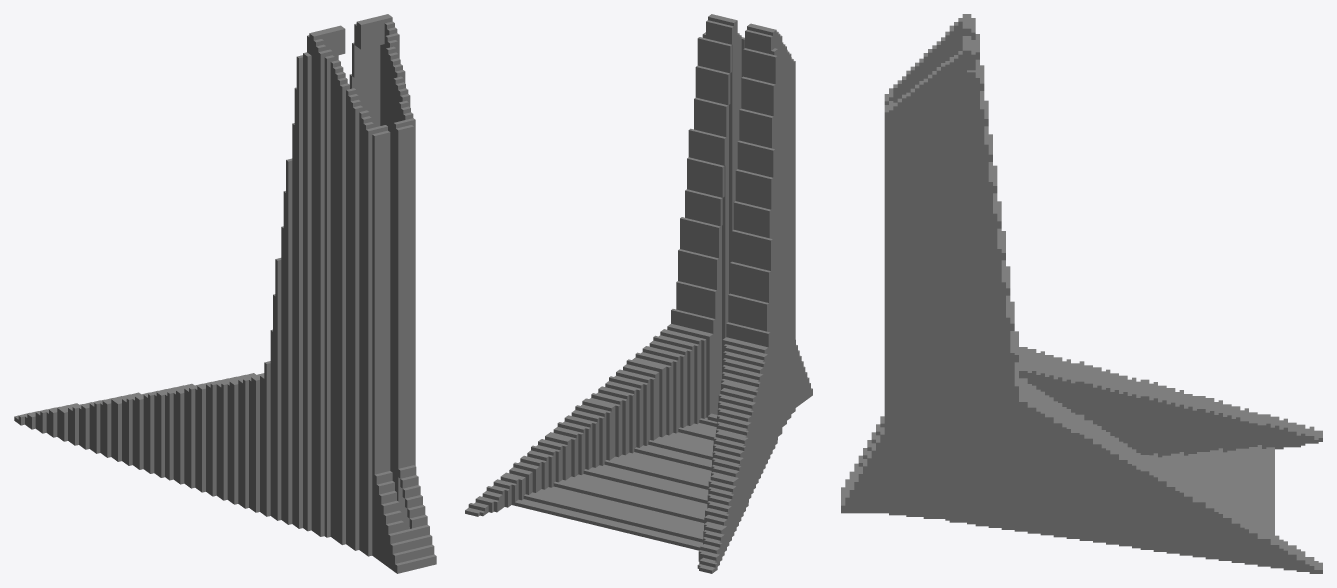
File: Light House (Full Size).obj
The picture shows the model from 3 angles, left to right: view 1: azimuth 30°, elevation 25°; view 2: azimuth 150°, elevation 25°; view 3: azimuth 270°, elevation 25°; orthographic projection. The views are drawn at different scales.
Visible parts, largest first — view 1: Light House (Full Size); view 2: Light House (Full Size); view 3: Light House (Full Size).
Part boxes in pixels (x1,y1,x2,y2): Light House (Full Size): (14,14,436,573); Light House (Full Size): (465,14,812,573); Light House (Full Size): (841,14,1322,573).
Size of the model in its own units: 76 by 120 by 111.
1 material, 1 textured.
